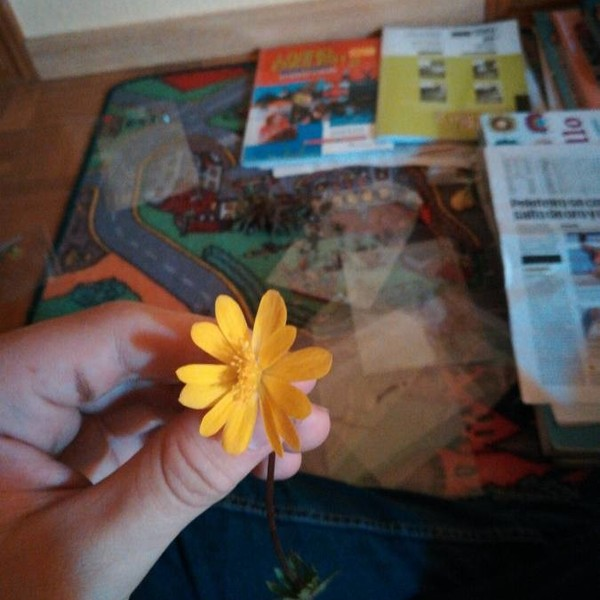obstacle: (175, 287, 335, 457)
